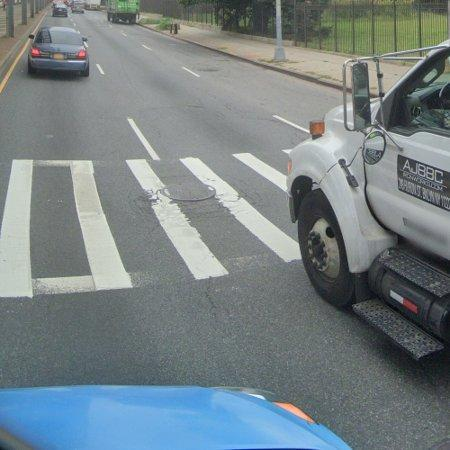crosswalks: (0, 149, 300, 301)
